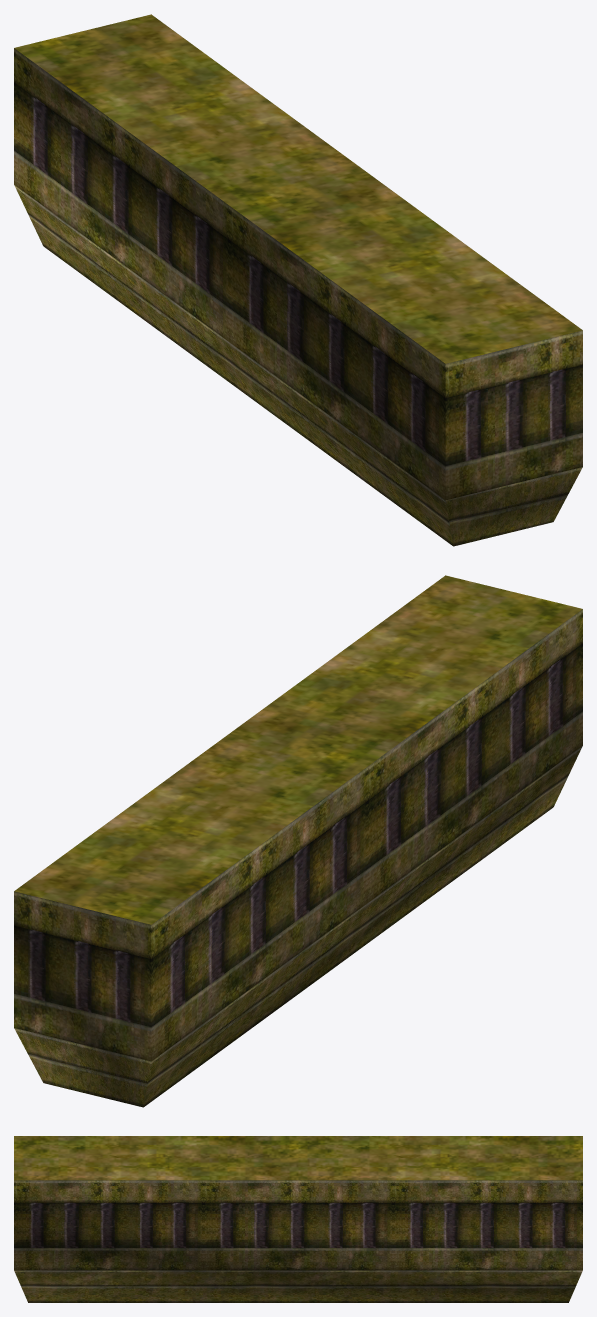
The model's file is OVERHILL_A_01_OBJECT130.fbx.
The picture shows the model from 3 angles, top to bottom: view 1: azimuth 30°, elevation 25°; view 2: azimuth 150°, elevation 25°; view 3: azimuth 270°, elevation 25°; orthographic projection. The views are drawn at different scales.
Visible parts, largest first — view 1: OVERHILL_A_01_OBJECT130; view 2: OVERHILL_A_01_OBJECT130; view 3: OVERHILL_A_01_OBJECT130.
Boxes of the visible parts, x1=… form: OVERHILL_A_01_OBJECT130: x1=14, y1=14, x2=582, y2=546; OVERHILL_A_01_OBJECT130: x1=14, y1=575, x2=582, y2=1107; OVERHILL_A_01_OBJECT130: x1=14, y1=1136, x2=582, y2=1302.
Bounding box in the file's own units: 11083 × 15038 × 60283.
Materials: 3 (3 with a texture image).
